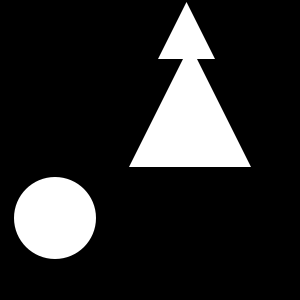rectangle: (14, 177, 96, 259)
triangle: (129, 45, 251, 167), (158, 2, 215, 59)
